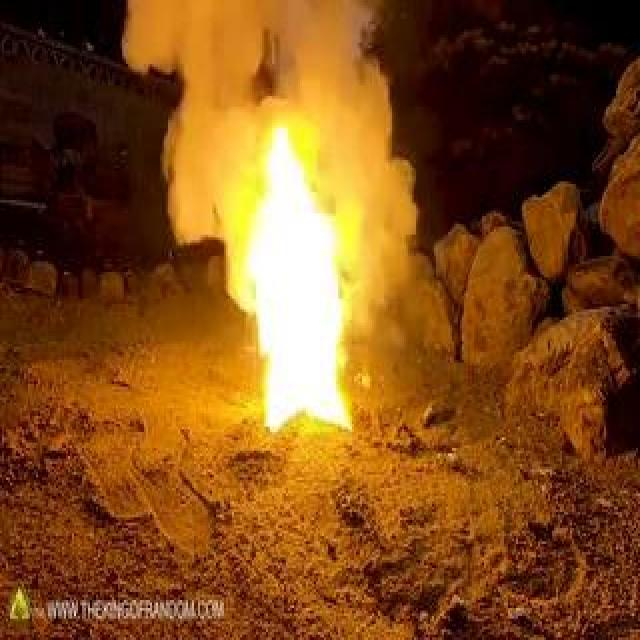Fire: (134, 146, 325, 326)
